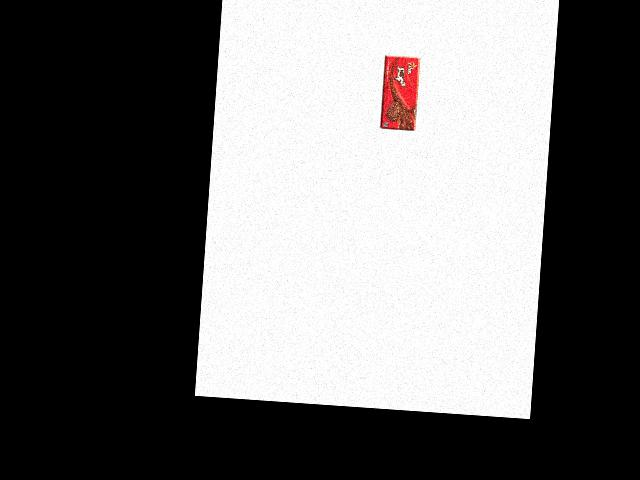chocolate: (376, 52, 421, 133)
